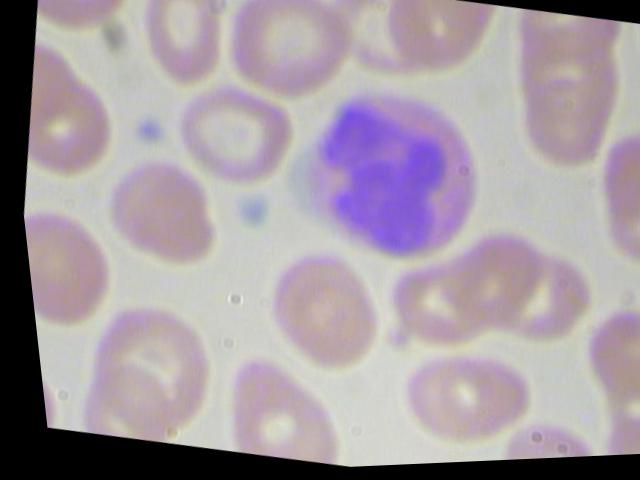Platelets: (217, 188, 282, 245), (127, 114, 165, 151)
Red Blood Cells: (238, 238, 391, 389), (379, 333, 539, 461), (85, 141, 229, 281), (209, 0, 369, 117), (157, 76, 306, 201), (205, 346, 352, 471), (18, 200, 129, 344), (13, 67, 131, 194), (127, 0, 241, 95), (572, 122, 639, 281), (33, 0, 137, 48)
White Blood Cells: (271, 68, 513, 283)
